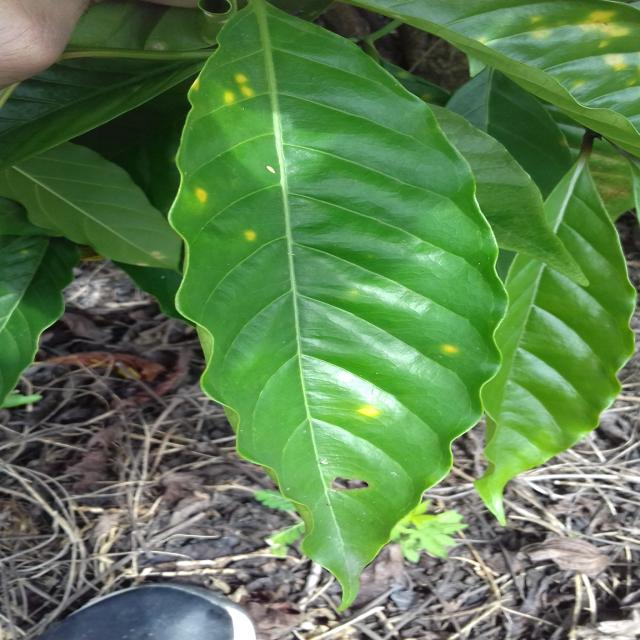Enfermedad-Roya: (164, 0, 529, 606)
